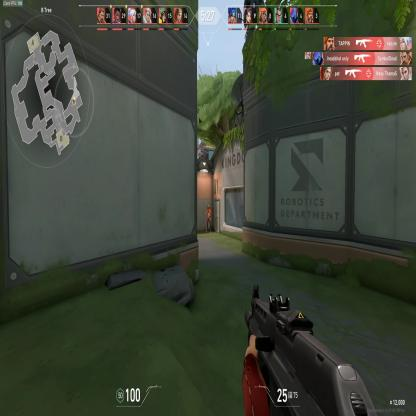enemy: (205, 204, 212, 233)
